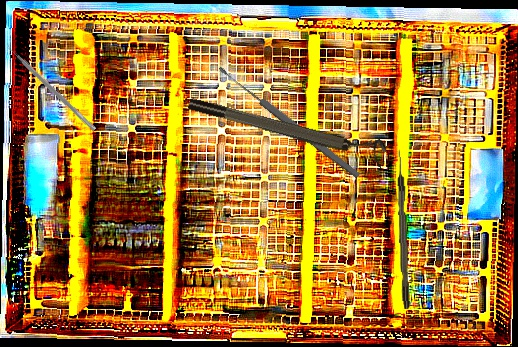Fixation Ring: (186, 86, 389, 168)
Hook Surgical: (396, 148, 410, 310)
Spatula Surgical: (3, 40, 100, 132)
Surgical Spoon: (215, 63, 363, 181)
